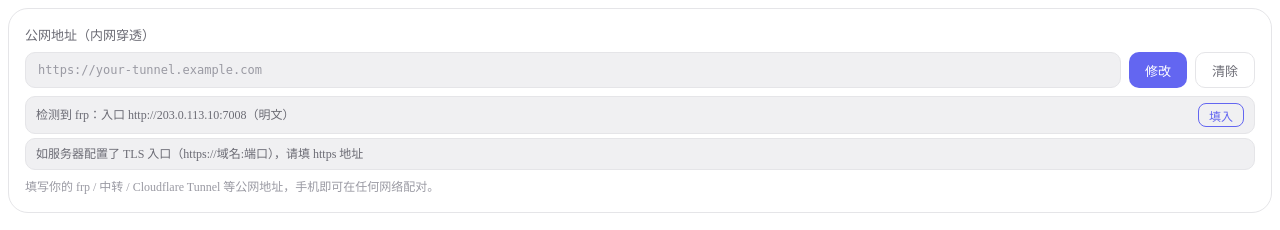
it: PublicUrlConfig › shows the concrete frp entry with an apply button and TLS hint
The image size is (1280, 230).
Check: the text "检测到 frp：入口 http://203.0.113.10:7008（明文）" is shown, box top-left (36, 106), bottom-right (295, 124)
Check: the text "如服务器配置了 TLS 入口（https://域名:端口），请填 https 地址" is shown, box top-left (25, 138), bottom-right (1255, 170)
Click the button "填入". click: (1221, 115)
box: top-left (1198, 103), bottom-right (1244, 127)
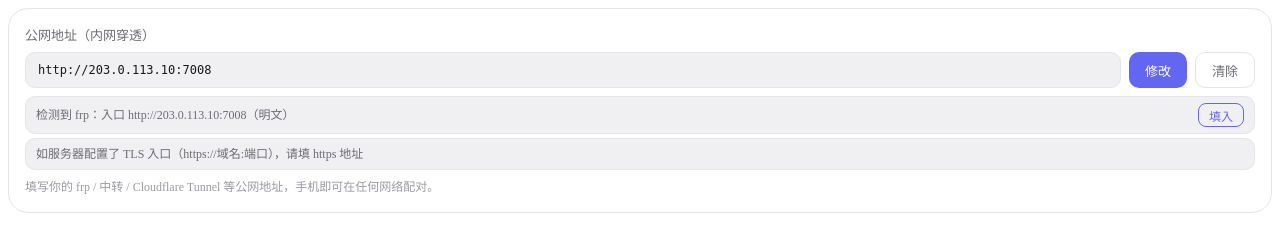
Check: the field named "公网地址（内网穿透）" holds "http://203.0.113.10:7008", box top-left (25, 52), bottom-right (1121, 88)
